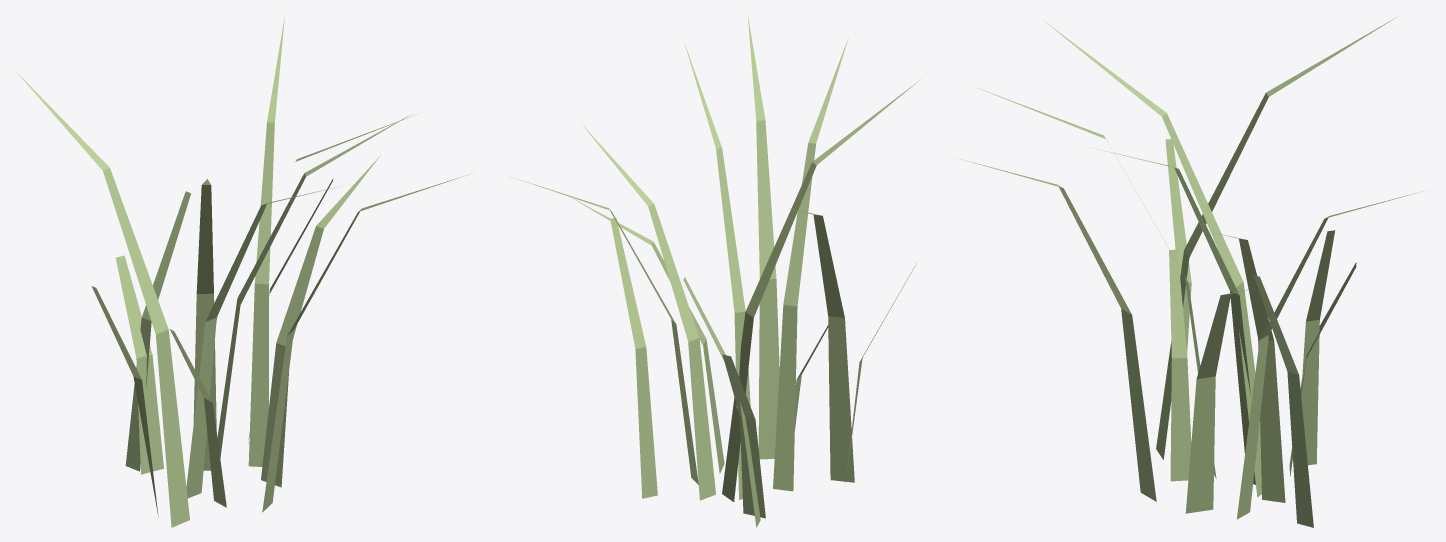
The model's file is grass_tuft_tall.glb.
3 views of the same model, side by side, from view 1: azimuth 30°, elevation 25°; view 2: azimuth 150°, elevation 25°; view 3: azimuth 270°, elevation 25° (orthographic). The views are drawn at different scales.
Visible parts, largest first — view 1: grass-tuft-tall; view 2: grass-tuft-tall; view 3: grass-tuft-tall.
Part boxes in pixels (box(x1,y1,x2,y2)): grass-tuft-tall: box(17, 16, 467, 527); grass-tuft-tall: box(510, 15, 920, 527); grass-tuft-tall: box(960, 16, 1422, 527).
Size of the model in its own units: 0.8226 by 0.9092 by 0.94.
